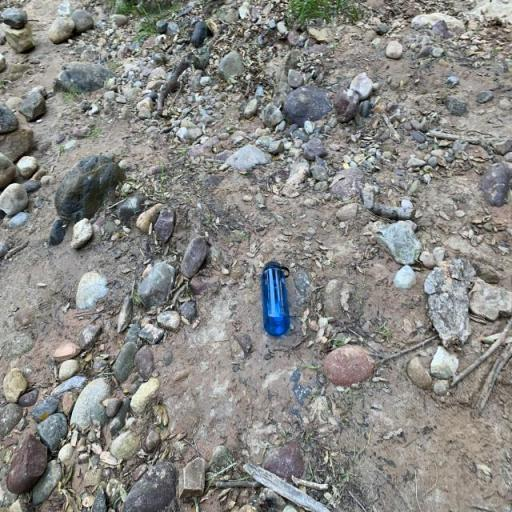bottle: (261, 261, 290, 337)
